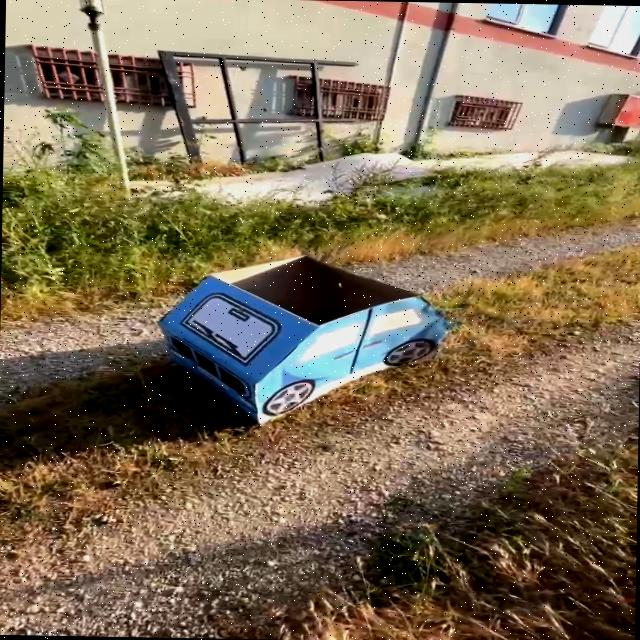blue_car: (110, 239, 467, 437)
